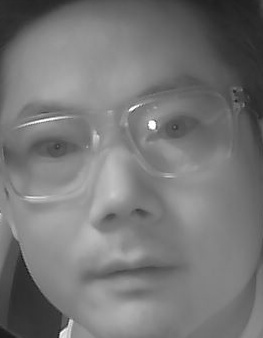eye: (26, 133, 80, 165), (145, 114, 203, 143)
glass: (119, 86, 233, 180), (2, 107, 95, 202)
mouth: (85, 240, 187, 303)
